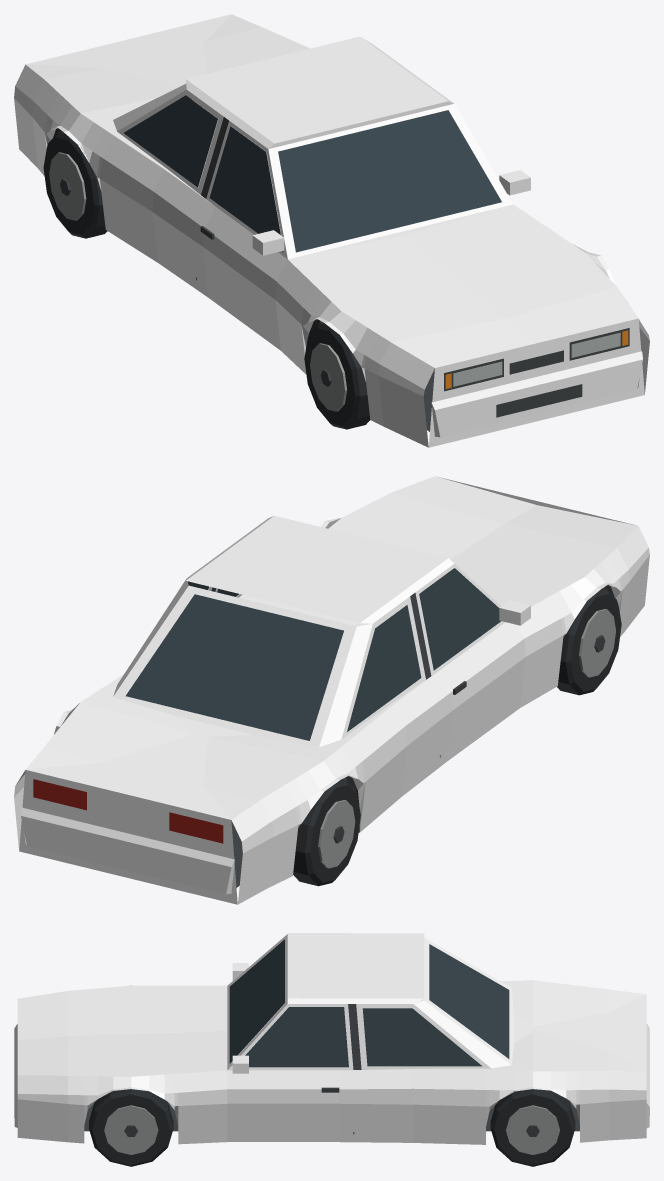
The model's file is hayase_akane_s_98.glb.
The picture shows the model from 3 angles, top to bottom: view 1: azimuth 30°, elevation 25°; view 2: azimuth 150°, elevation 25°; view 3: azimuth 270°, elevation 25°; orthographic projection. The views are drawn at different scales.
Parts seen in each view (by area): view 1: hayase_akane_s_98; view 2: hayase_akane_s_98; view 3: hayase_akane_s_98.
Part boxes in pixels (bbox=[...]): hayase_akane_s_98: bbox=[14, 14, 649, 447]; hayase_akane_s_98: bbox=[14, 476, 649, 904]; hayase_akane_s_98: bbox=[14, 933, 649, 1166].
Size of the model in its own units: 1.82 by 1.24 by 4.7.
Materials: 8 (1 with a texture image).
